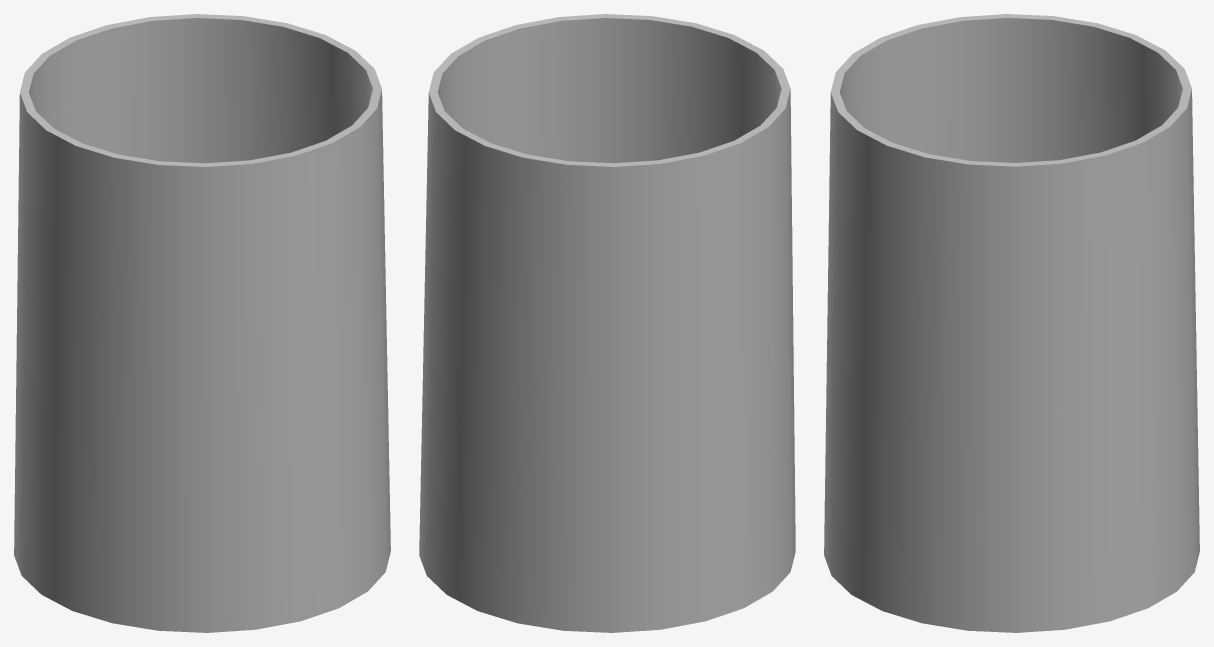
Rendered from SM_Bin_1.fbx.
3 views of the same model, side by side, from view 1: azimuth 30°, elevation 25°; view 2: azimuth 150°, elevation 25°; view 3: azimuth 270°, elevation 25° (orthographic).
Parts seen in each view (by area): view 1: SM_Bin_1; view 2: SM_Bin_1; view 3: SM_Bin_1.
Boxes of the visible parts, x1,y1,x2,y2 form: SM_Bin_1: [14, 14, 390, 632]; SM_Bin_1: [419, 14, 795, 632]; SM_Bin_1: [824, 14, 1199, 632].
Bounding box in the file's own units: 0.0952 × 0.1292 × 0.0952.
1 material, 1 textured.
